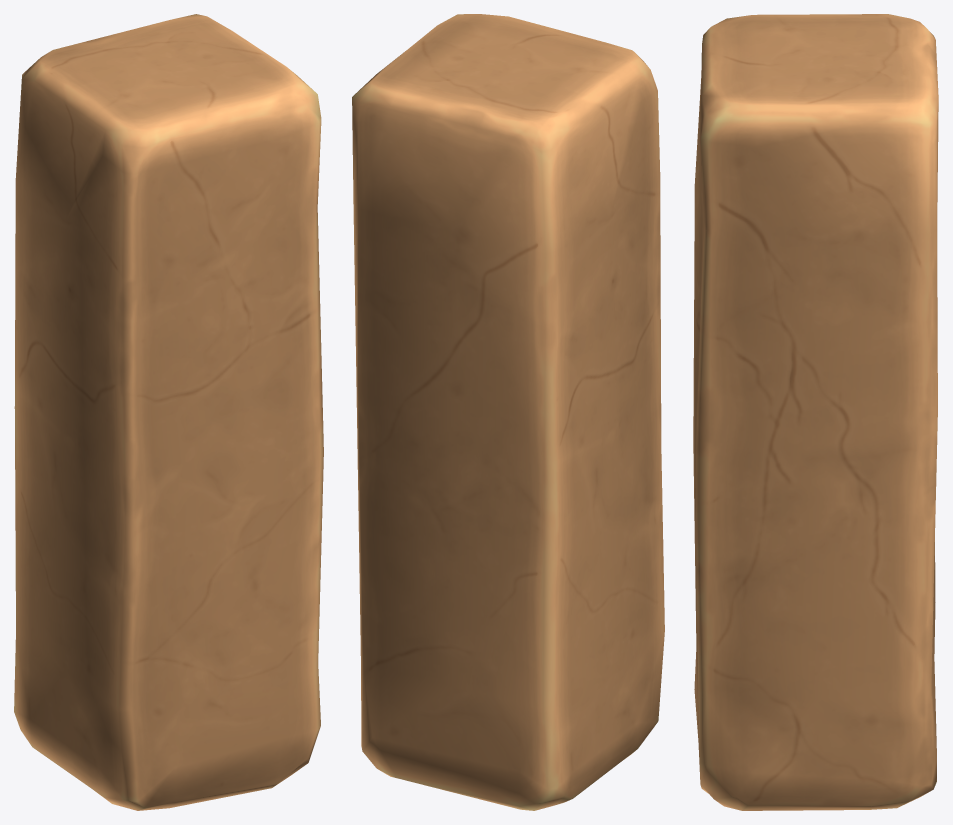
Rendered from stone_pillar___3daily_2017.glb.
3 views of the same model, side by side, from view 1: azimuth 30°, elevation 25°; view 2: azimuth 150°, elevation 25°; view 3: azimuth 270°, elevation 25° (orthographic). The views are drawn at different scales.
Visible parts, largest first — view 1: Mesh_Texture_0; view 2: Mesh_Texture_0; view 3: Mesh_Texture_0.
Part boxes in pixels (box(x1,y1,x2,y2)): Mesh_Texture_0: box(14, 14, 323, 810); Mesh_Texture_0: box(352, 14, 664, 810); Mesh_Texture_0: box(693, 14, 938, 810).
Bounding box in the file's own units: 123 × 397 × 124.
Materials: 1 (1 with a texture image).
